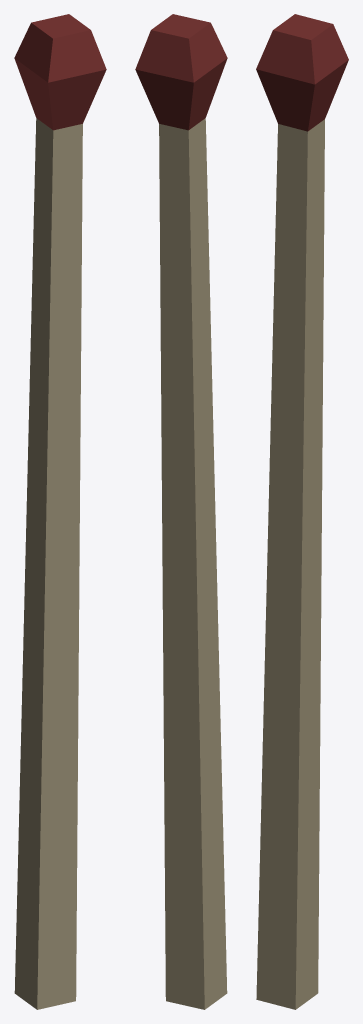
Rendered from Match.glb.
3 renders of one model, left to right at view 1: azimuth 30°, elevation 25°; view 2: azimuth 150°, elevation 25°; view 3: azimuth 330°, elevation 25°, orthographic.
Visible parts, largest first — view 1: Match; view 2: Match; view 3: Match.
Part boxes in pixels (x1,y1,x2,y2): Match: (14, 14, 106, 1009); Match: (135, 14, 227, 1009); Match: (256, 14, 348, 1009).
Size of the model in its own units: 0.0414 by 0.5996 by 0.038.
